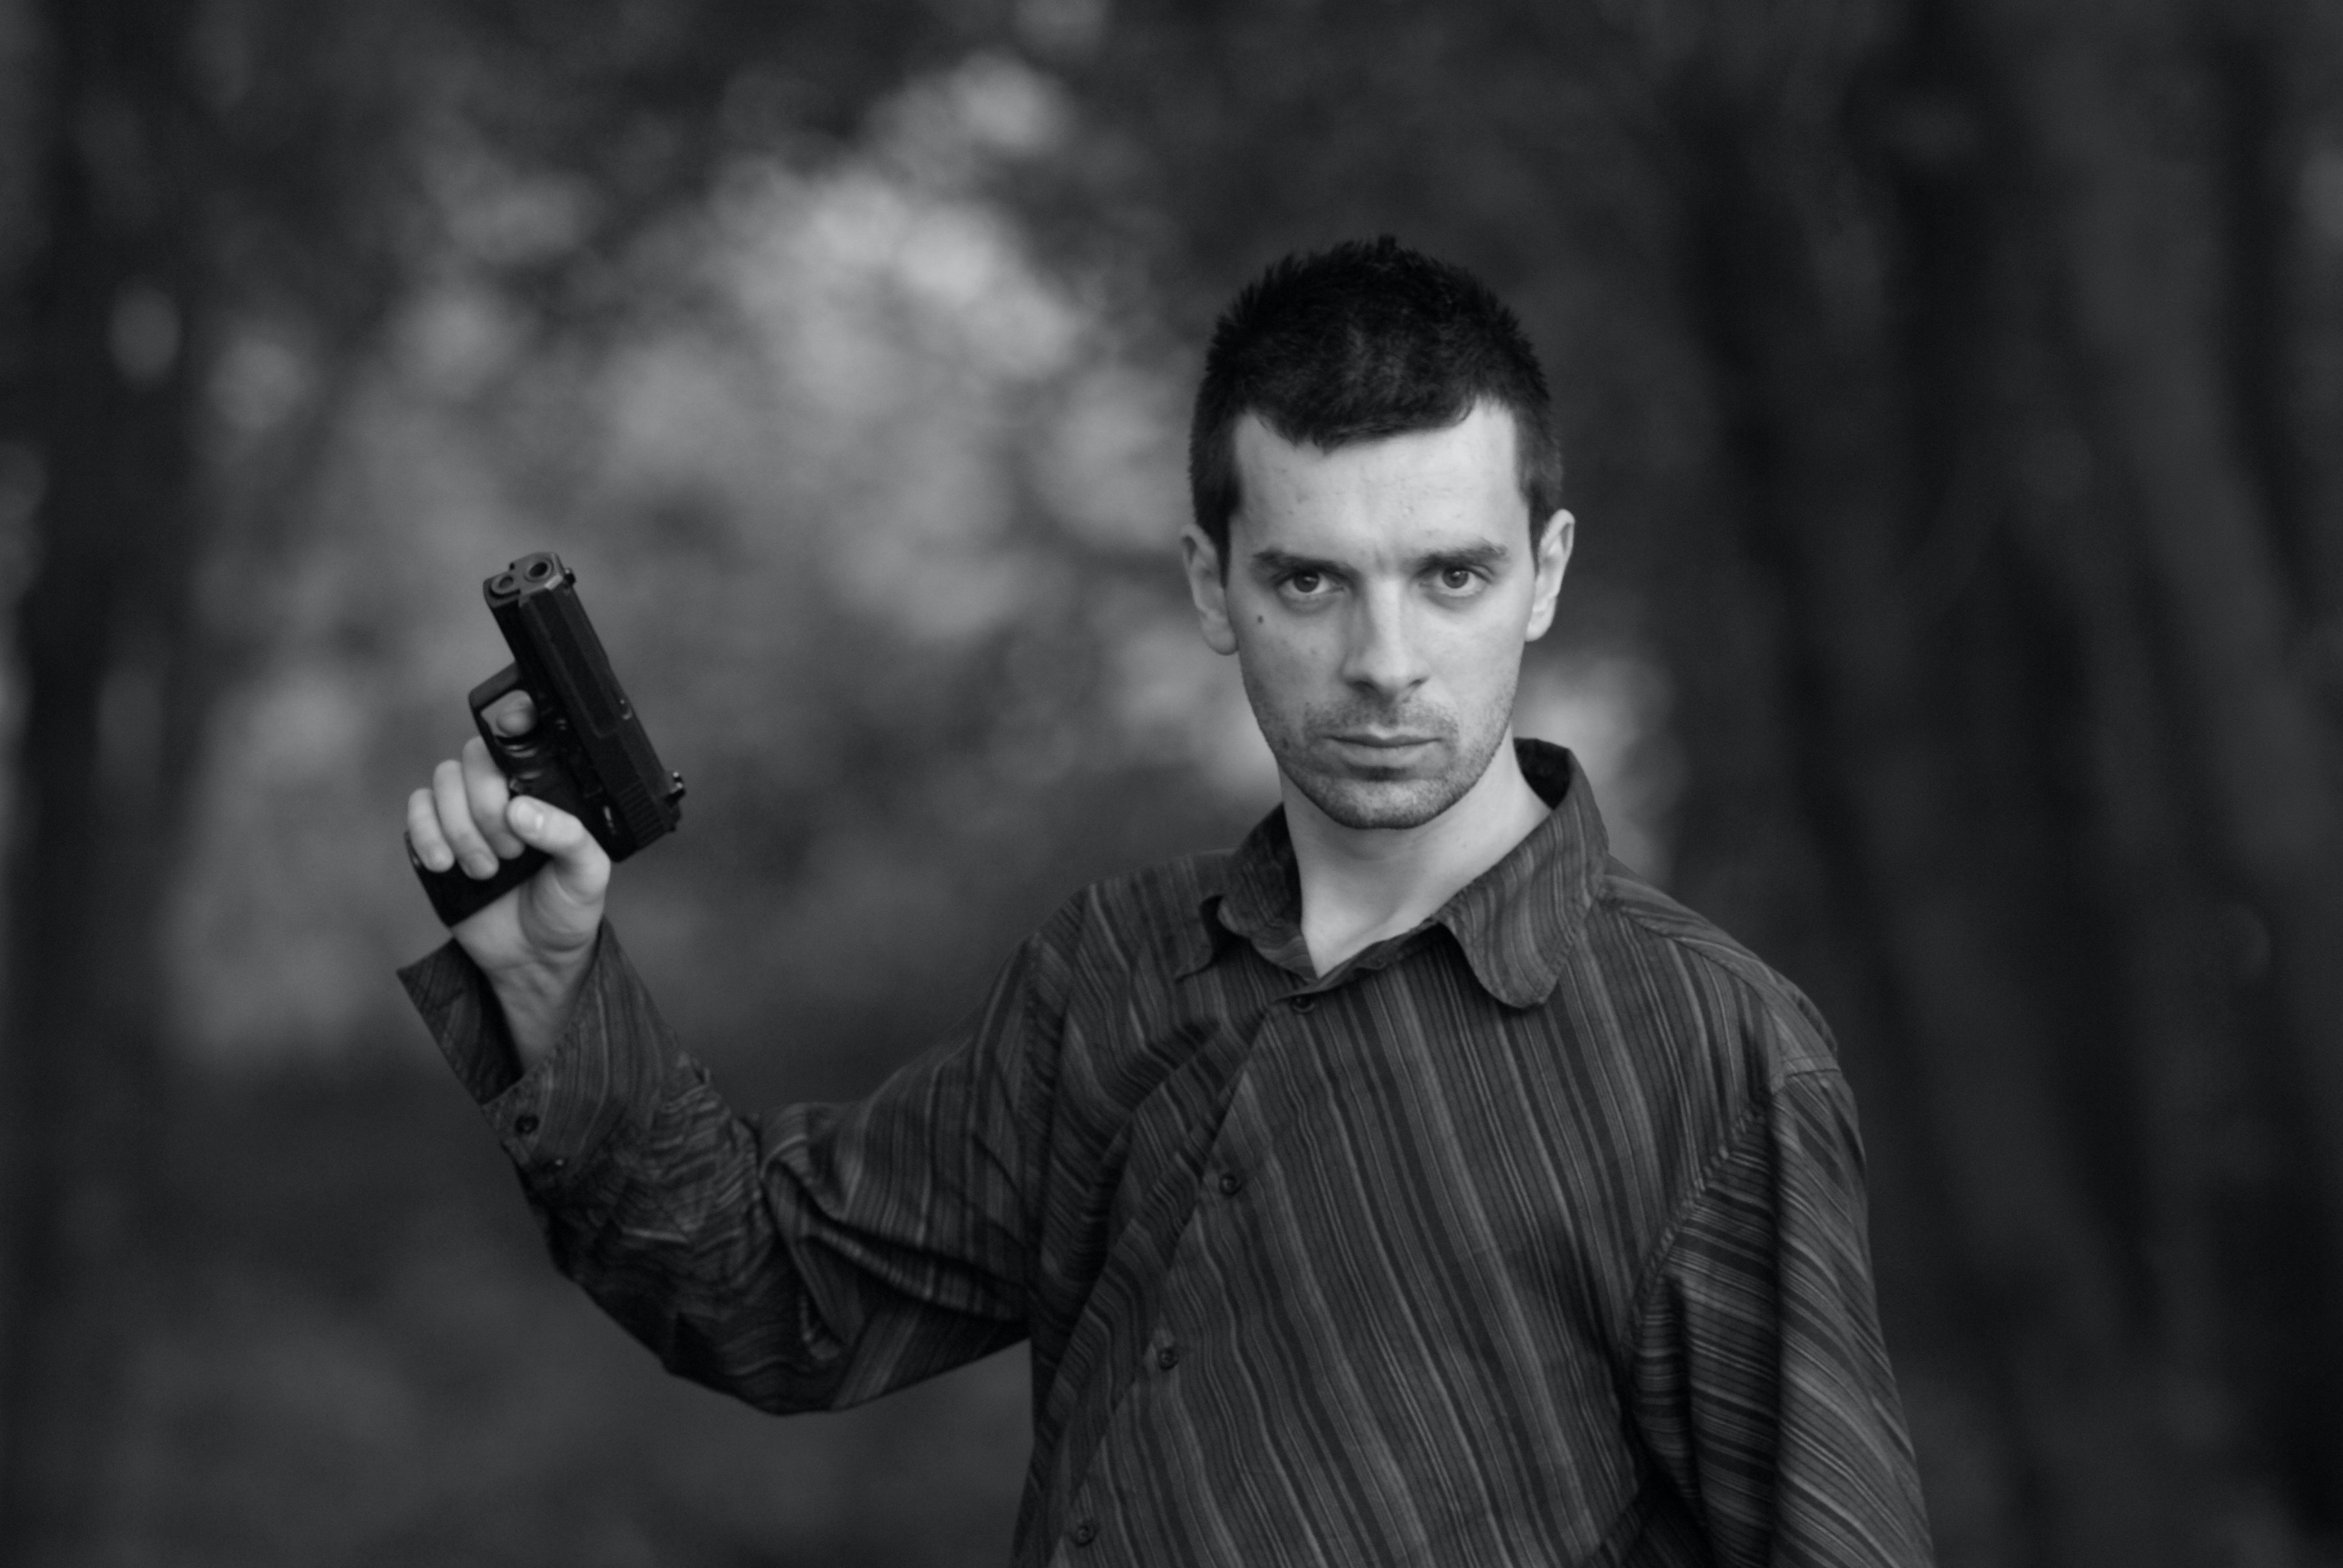gun: (390, 532, 700, 938)
person: (397, 241, 1938, 1568)
